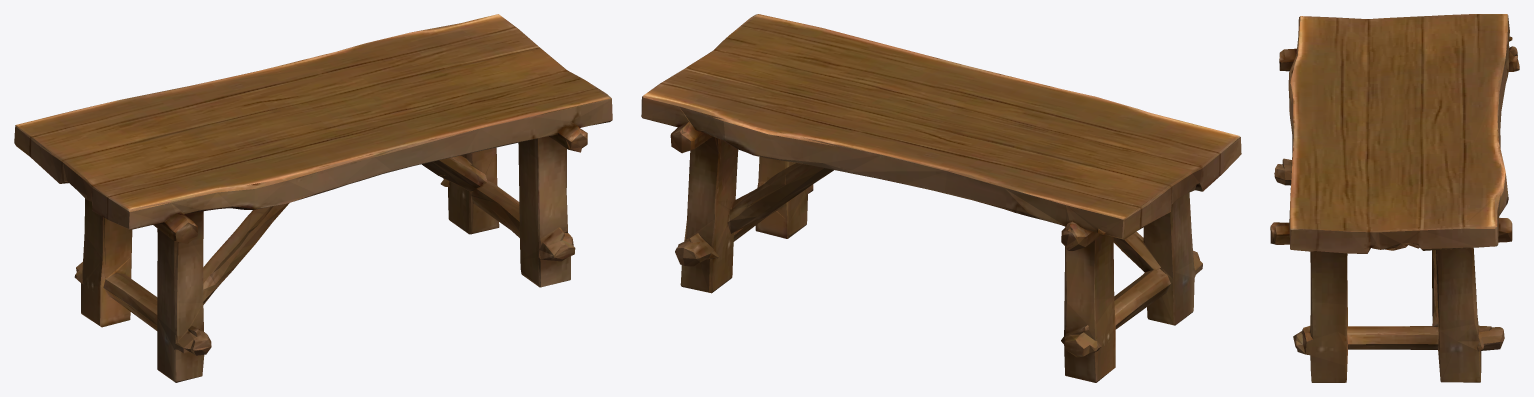
The model's file is prop_table_wood_01.glb.
3 views of the same model, side by side, from view 1: azimuth 30°, elevation 25°; view 2: azimuth 150°, elevation 25°; view 3: azimuth 270°, elevation 25° (orthographic). The views are drawn at different scales.
Visible parts, largest first — view 1: geometry_0; view 2: geometry_0; view 3: geometry_0.
Part boxes in pixels (<box>): geometry_0: <box>14,14,612,382</box>; geometry_0: <box>641,14,1241,382</box>; geometry_0: <box>1270,14,1519,382</box>.
Size of the model in its own units: 0.9986 by 0.3736 by 0.4934.
1 material, 1 textured.
